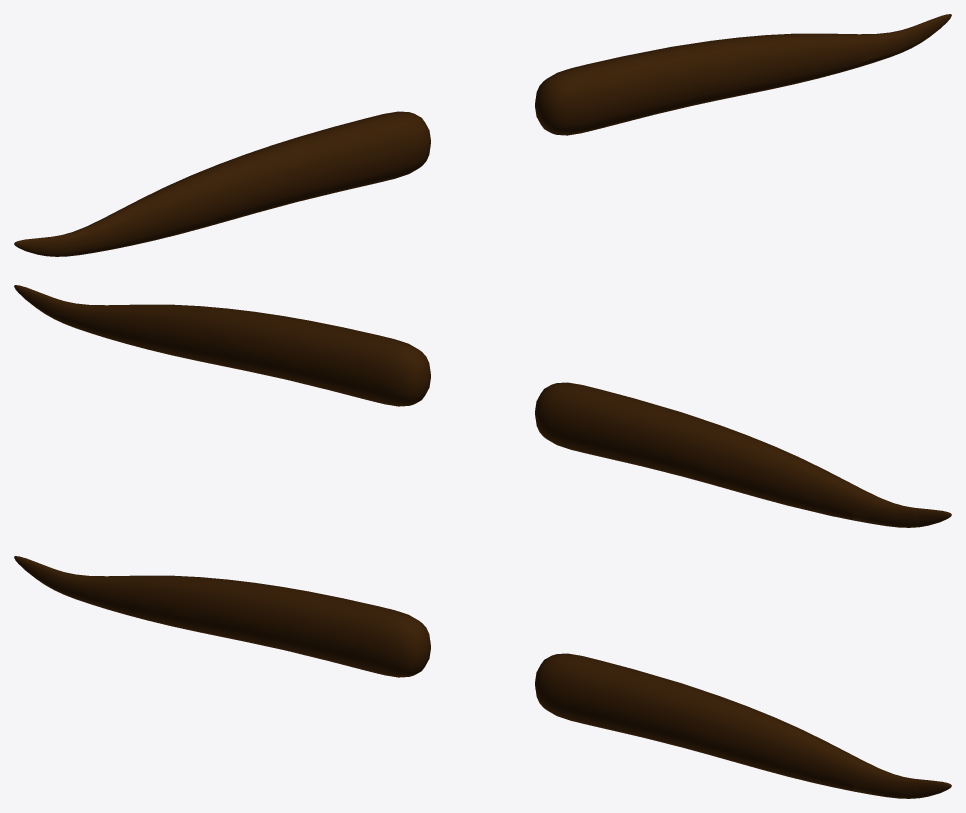
The model's file is tinyMustache.gltf.
3 renders of one model, top to bottom at view 1: azimuth 30°, elevation 25°; view 2: azimuth 150°, elevation 25°; view 3: azimuth 330°, elevation 25°, orthographic.
Parts seen in each view (by area): view 1: tinyMustache; view 2: tinyMustache; view 3: tinyMustache.
Boxes of the visible parts, bbox=[...] form: tinyMustache: bbox=[14, 14, 951, 256]; tinyMustache: bbox=[14, 285, 951, 527]; tinyMustache: bbox=[14, 556, 951, 798].
Size of the model in its own units: 1.71 by 0.1142 by 0.0854.
